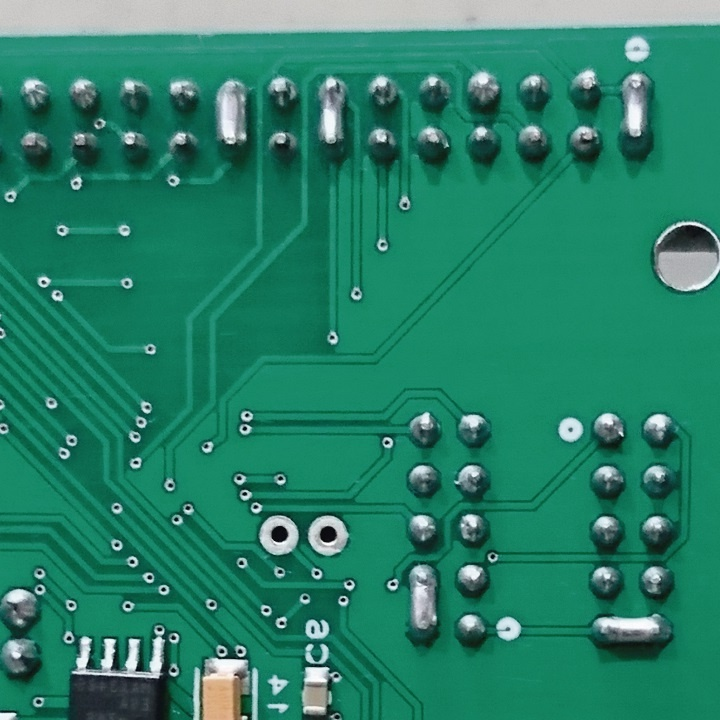F: (253, 510, 303, 560), (306, 510, 352, 561)
P: (588, 609, 680, 658), (618, 71, 659, 166), (403, 560, 444, 649), (313, 70, 350, 168), (213, 76, 253, 162)
